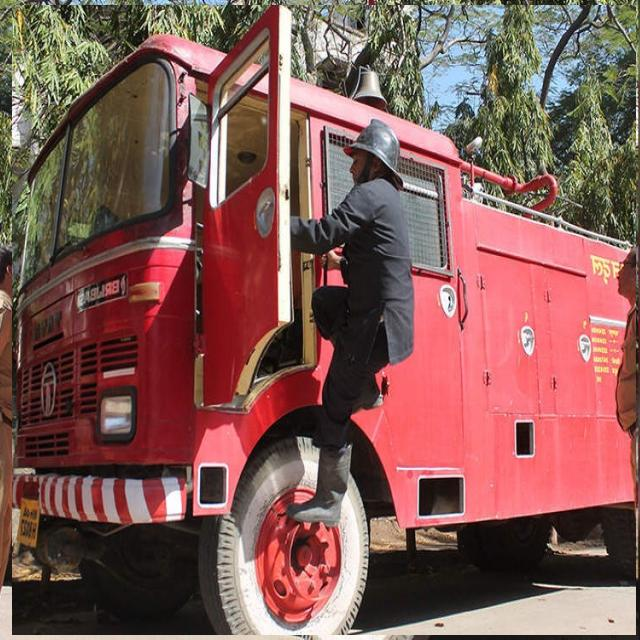emergency: (12, 5, 636, 635)
